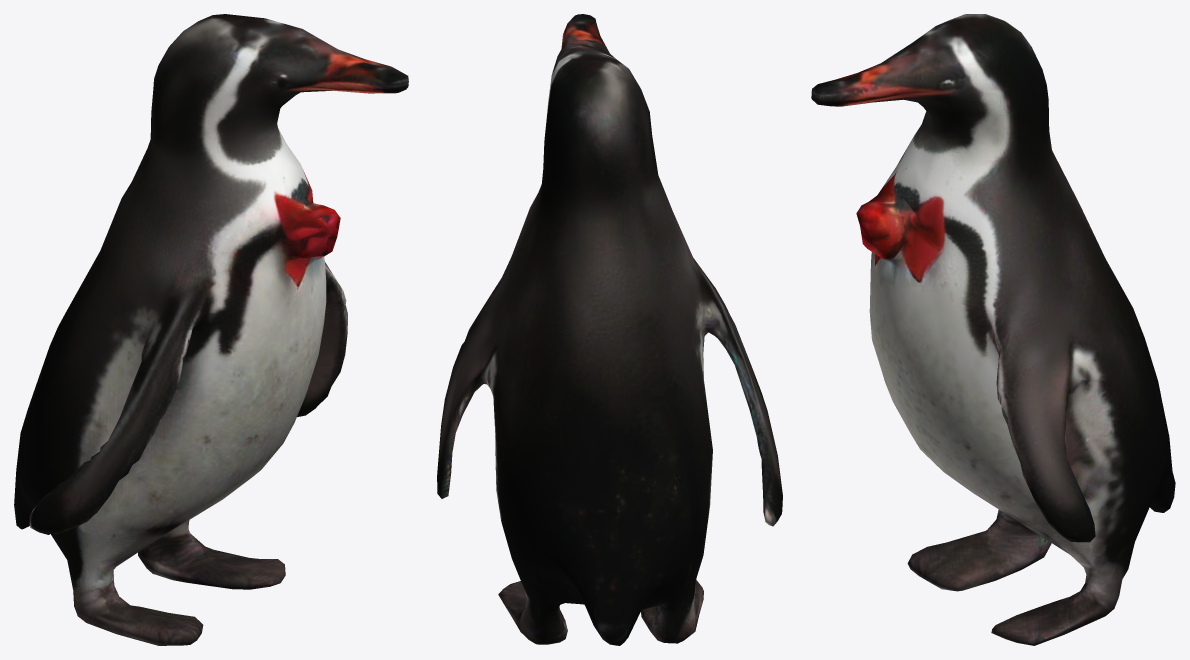
3 views of the same model, side by side, from view 1: azimuth 30°, elevation 25°; view 2: azimuth 150°, elevation 25°; view 3: azimuth 270°, elevation 25° (orthographic). The views are drawn at different scales.
Visible parts, largest first — view 1: world; view 2: world; view 3: world.
Part boxes in pixels (left/top/right/bottom): world: left=14, top=14, right=408, bottom=645; world: left=437, top=14, right=782, bottom=645; world: left=811, top=14, right=1175, bottom=645.
Bounding box in the file's own units: 0.9574 × 1.6 × 0.8859.
1 material, 1 textured.
